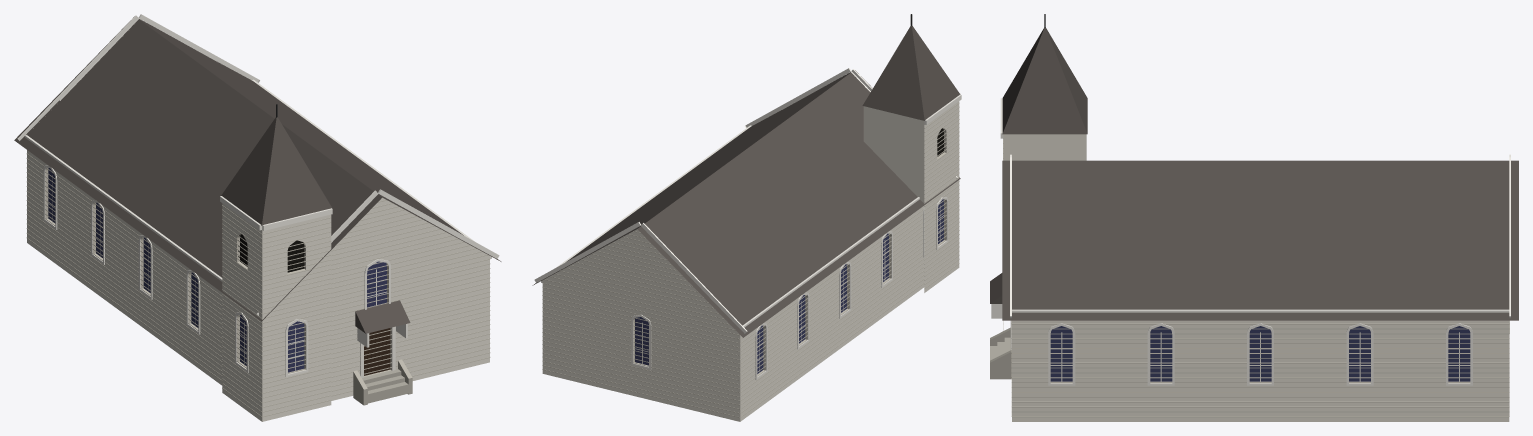
Rendered from ch-first-baptist-argenta-1913.glb.
The picture shows the model from 3 angles, left to right: view 1: azimuth 30°, elevation 25°; view 2: azimuth 150°, elevation 25°; view 3: azimuth 270°, elevation 25°; orthographic projection. The views are drawn at different scales.
Visible parts, largest first — view 1: ch_brick, ch_roof, ch_brick2, ch_trim, ch_roof2, ch_stain, ch_conc, ch_door, ch_shadow; view 2: ch_brick, ch_roof, ch_brick2, ch_trim, ch_roof2, ch_stain; view 3: ch_roof, ch_brick, ch_brick2, ch_roof2, ch_trim, ch_stain, ch_conc.
Boxes of the visible parts, x1,y1,x2,y2 form: ch_brick: [27, 150, 489, 421]; ch_roof: [14, 16, 501, 321]; ch_brick2: [26, 24, 490, 417]; ch_trim: [17, 14, 499, 377]; ch_roof2: [221, 117, 410, 333]; ch_stain: [48, 168, 386, 372]; ch_conc: [353, 359, 412, 405]; ch_door: [364, 328, 390, 375]; ch_shadow: [240, 234, 304, 272]; ch_brick: [542, 101, 959, 421]; ch_roof: [532, 70, 960, 337]; ch_brick2: [542, 76, 959, 417]; ch_trim: [534, 68, 961, 379]; ch_roof2: [862, 25, 960, 120]; ch_stain: [635, 199, 943, 373]; ch_roof: [1002, 160, 1518, 320]; ch_brick: [1003, 134, 1509, 421]; ch_brick2: [1003, 139, 1509, 417]; ch_roof2: [990, 27, 1087, 303]; ch_trim: [991, 98, 1510, 385]; ch_stain: [1050, 326, 1470, 381]; ch_conc: [990, 327, 1011, 379].
Bounding box in the file's own units: 11.96 × 13.95 × 21.61.
